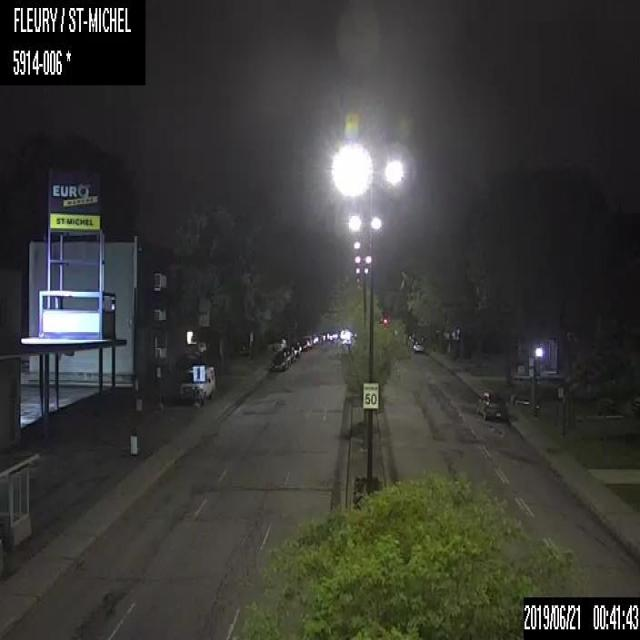vehicle: (178, 366, 216, 404), (476, 388, 509, 419), (268, 351, 286, 371), (412, 340, 425, 351)
